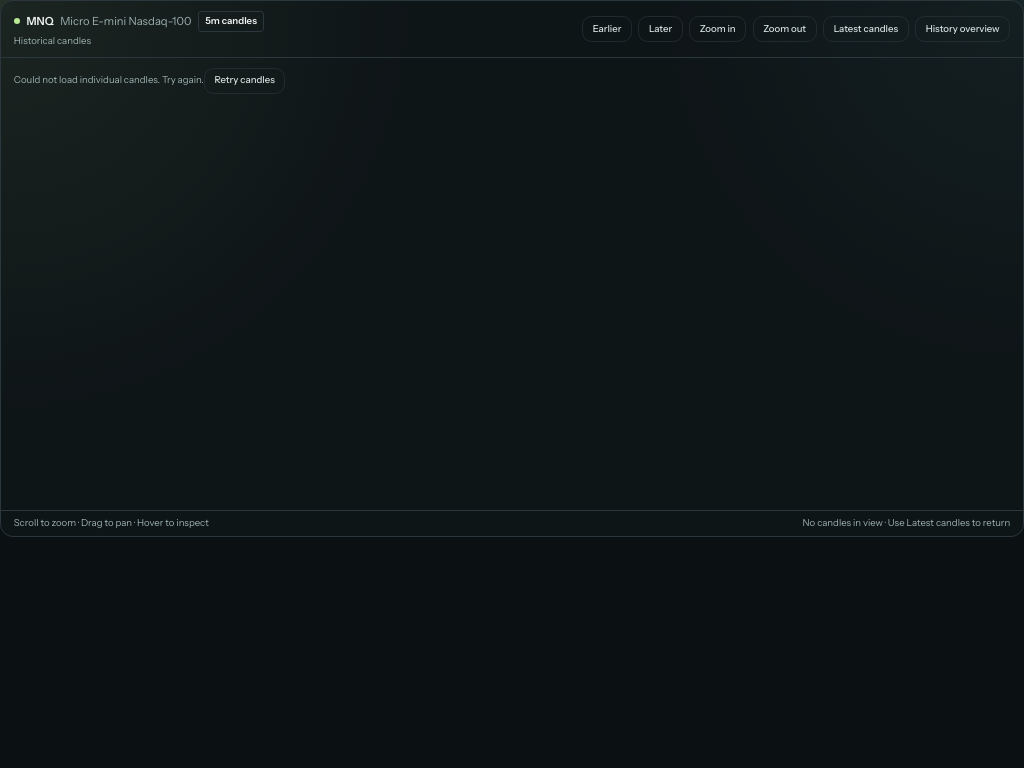
Test: keeps grouped prices off the exact chart if the initial request fails, and retries
Check: the message shows "Could not load individual", box [14,74,204,85]
Click the button "Retry candles" at (245, 81), box [204,68,286,94]
Wait 1000 ms
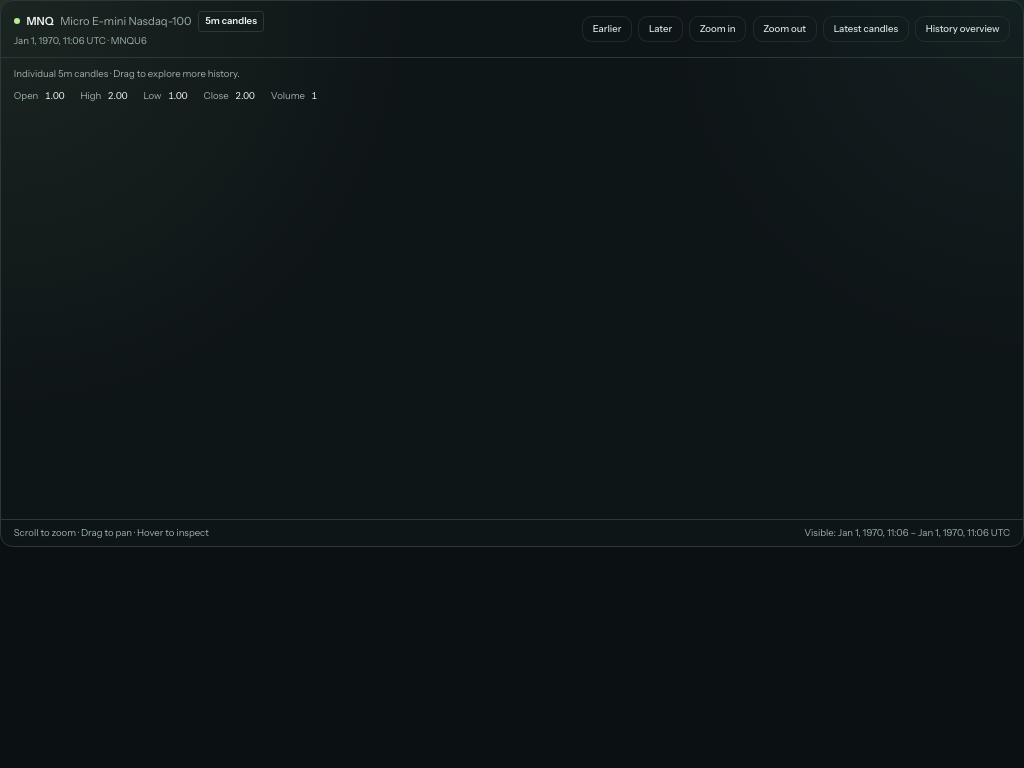
Check: the element named "Candle values" is shown, box [14,90,317,101]
